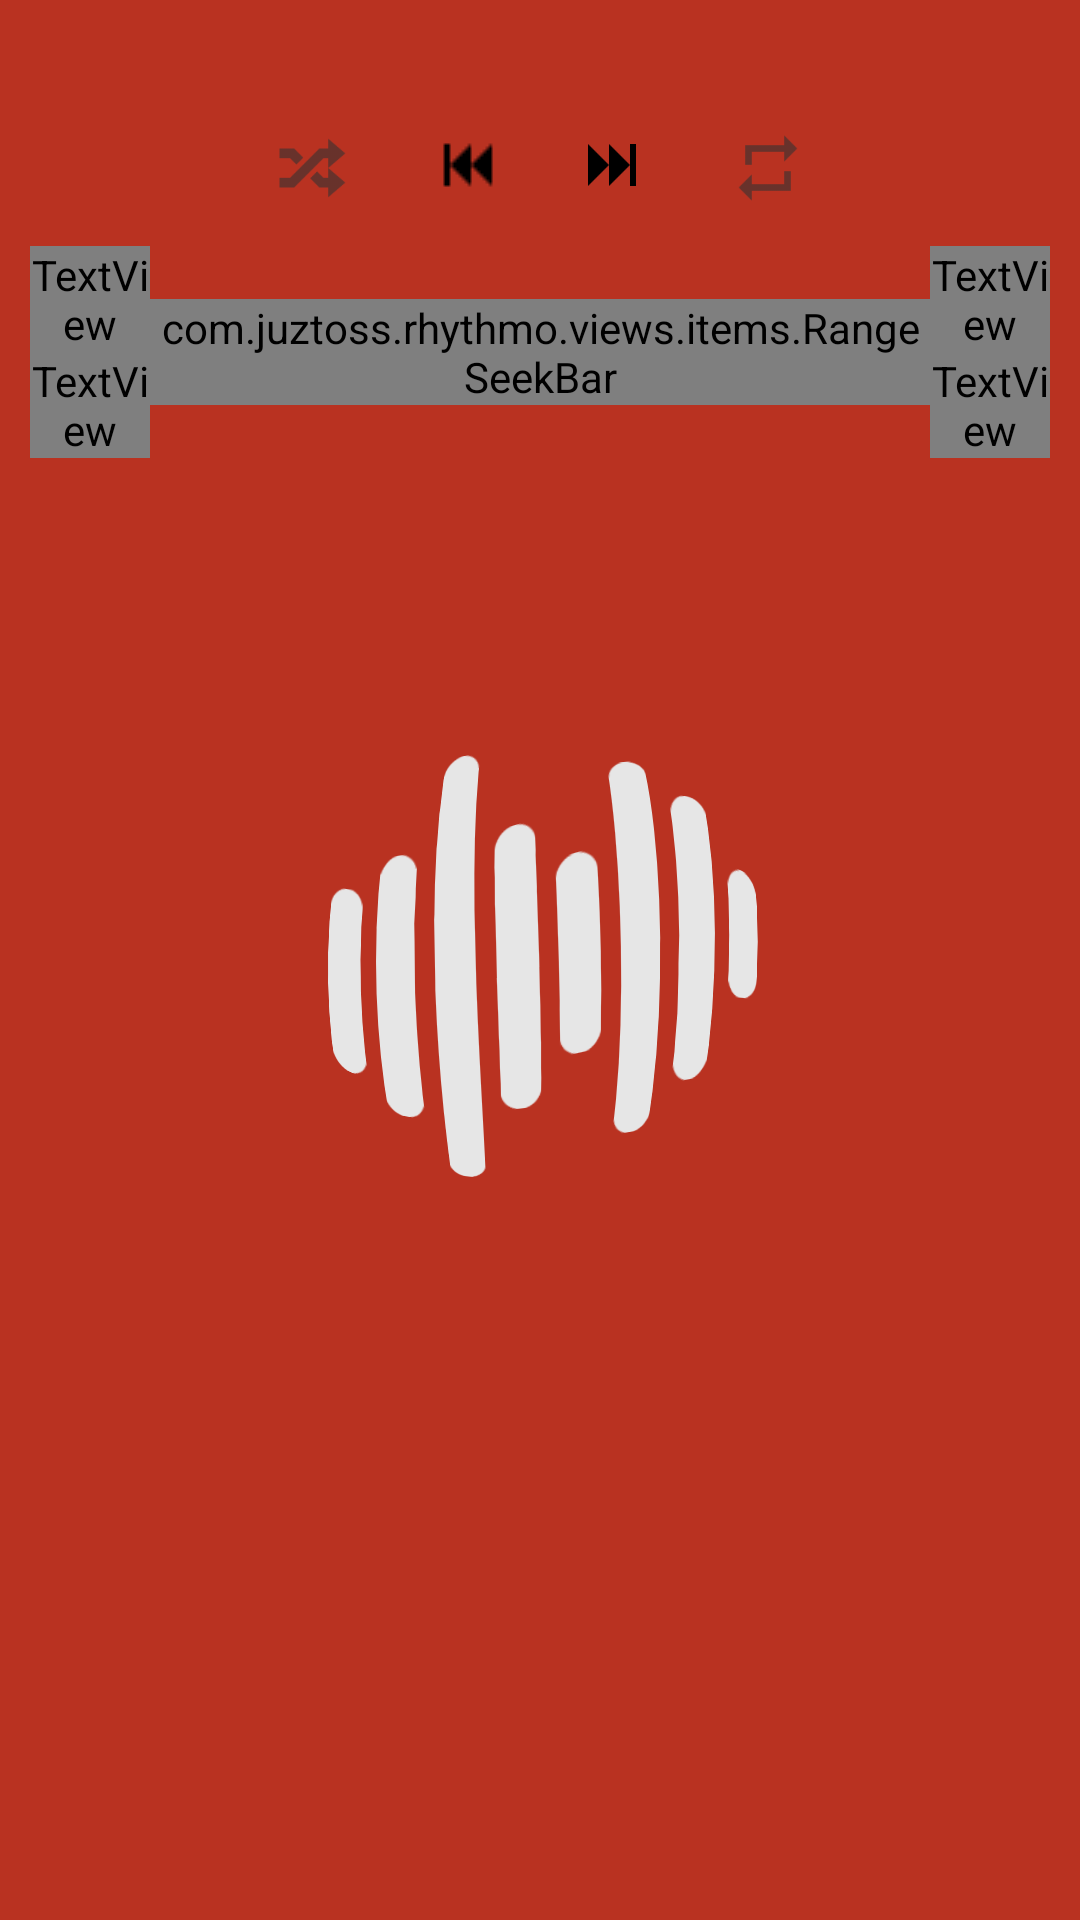

Named icons in this screenshot (1080w x 1920h) and their bounding boxes, (x1, y1, x2, y2):
repeat: (739, 136, 797, 200)
shuffle variant: (279, 139, 345, 197)
skip backward: (443, 143, 493, 187)
skip forward: (588, 144, 636, 186)
